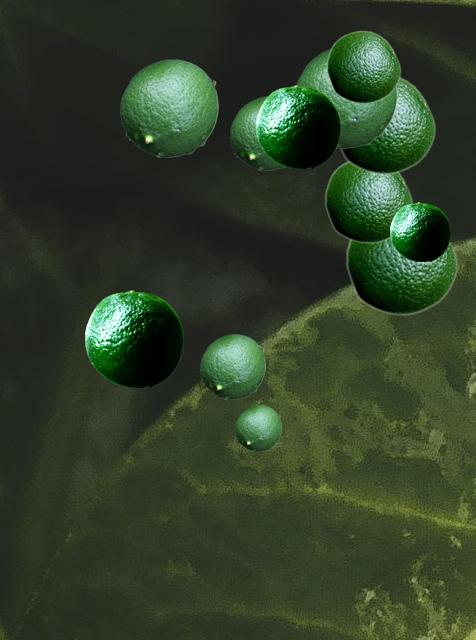calamansi: (296, 49, 396, 147), (120, 59, 217, 156), (339, 76, 435, 174), (85, 290, 182, 386), (345, 237, 457, 315), (324, 161, 412, 243), (256, 85, 339, 167), (326, 30, 400, 103), (200, 334, 264, 398), (230, 96, 284, 169), (390, 202, 449, 260), (235, 405, 280, 450)
